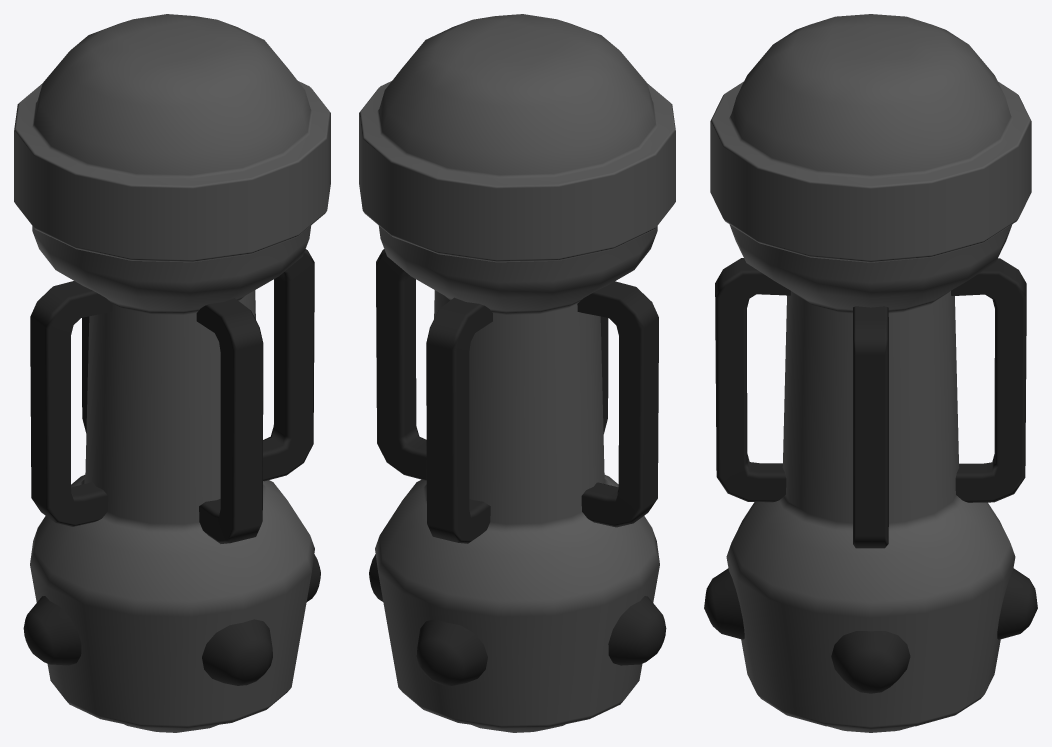
Rendered from _Grenade_02.fbx.
3 renders of one model, left to right at view 1: azimuth 30°, elevation 25°; view 2: azimuth 150°, elevation 25°; view 3: azimuth 270°, elevation 25°, orthographic.
Parts seen in each view (by area): view 1: Grenade_02; view 2: Grenade_02; view 3: Grenade_02.
Part boxes in pixels (bbox=[...]): Grenade_02: bbox=[14, 14, 330, 732]; Grenade_02: bbox=[359, 14, 675, 732]; Grenade_02: bbox=[704, 14, 1037, 732].
Size of the model in its own units: 50.96 by 113 by 51.15.
Materials: 1 (1 with a texture image).
